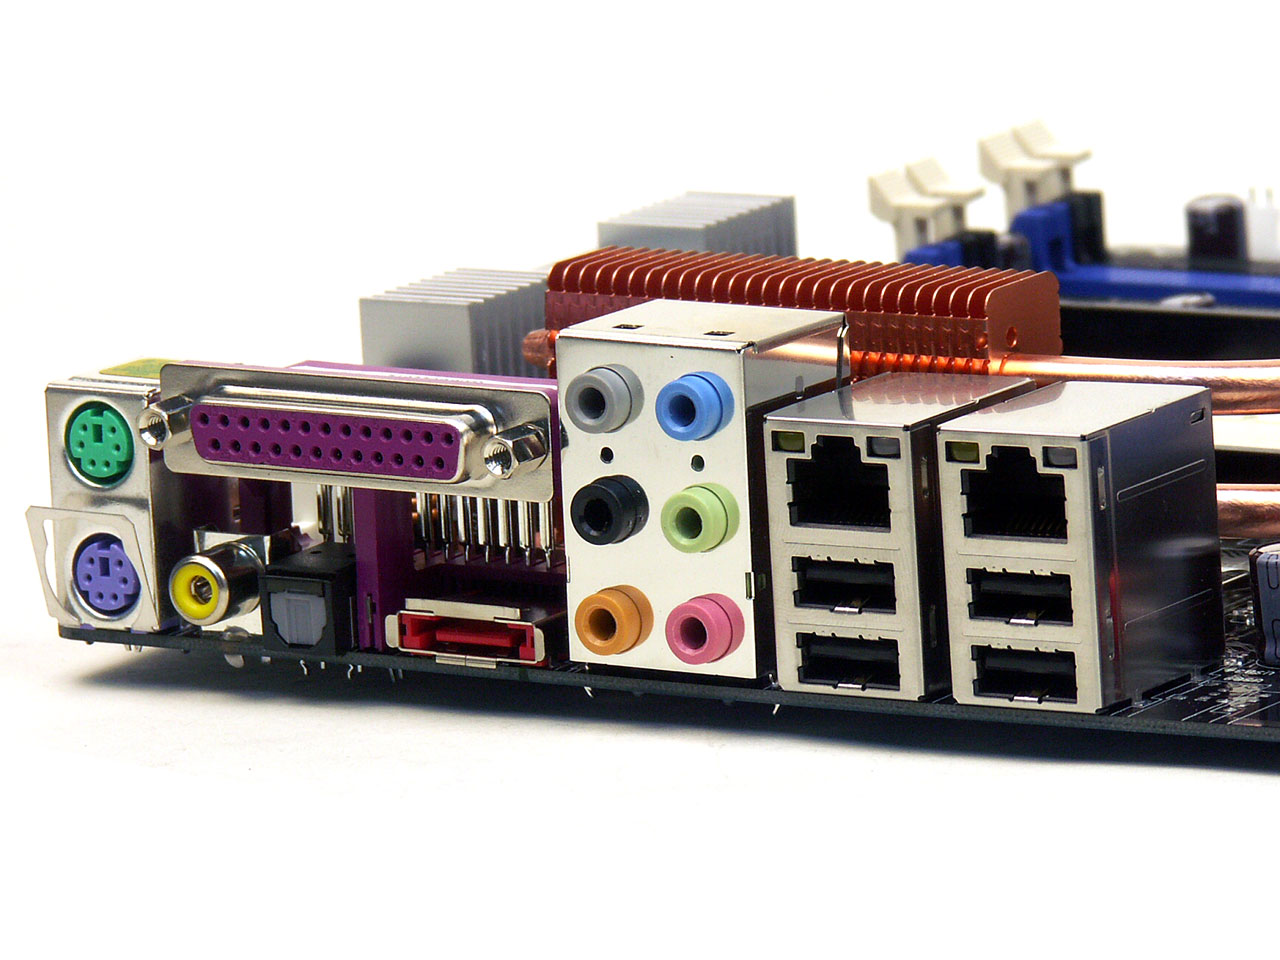Audio: (662, 589, 731, 670), (569, 474, 638, 552), (657, 481, 724, 558), (571, 585, 642, 656), (564, 363, 623, 442), (659, 373, 713, 442)
Ethernet: (939, 434, 1092, 555), (773, 429, 902, 535)
USB: (950, 558, 1082, 638), (782, 545, 913, 619), (780, 628, 913, 695), (964, 641, 1085, 707)
